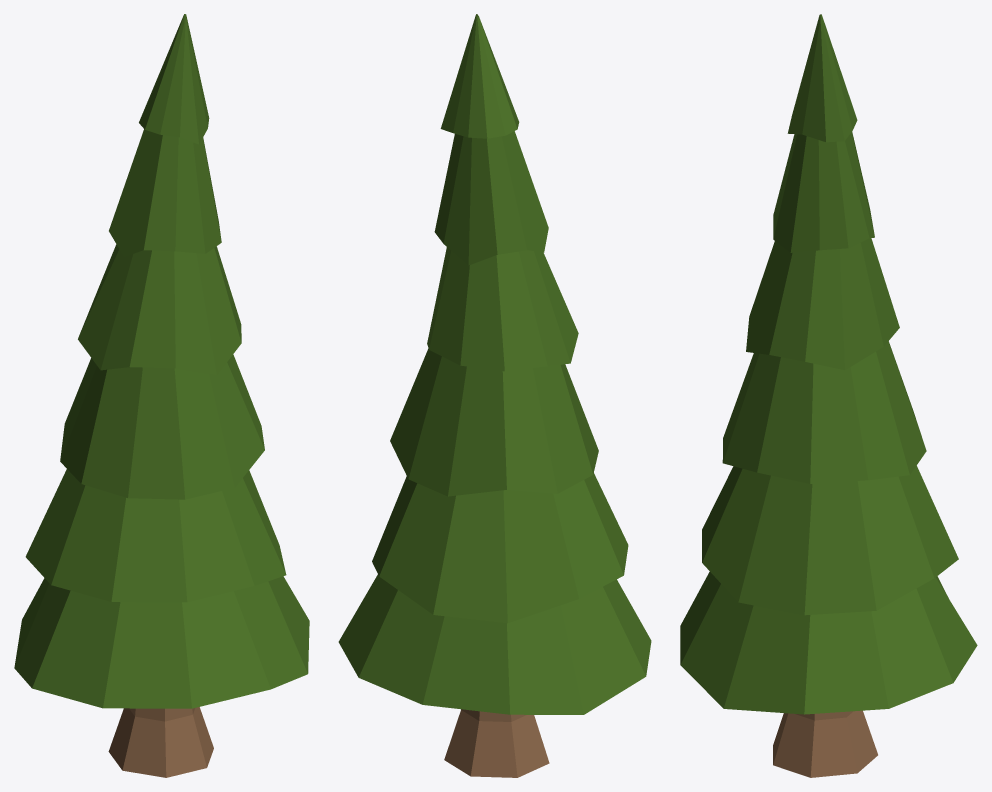
Rendered from tree3.fbx.
3 renders of one model, left to right at view 1: azimuth 30°, elevation 25°; view 2: azimuth 150°, elevation 25°; view 3: azimuth 270°, elevation 25°, orthographic. The views are drawn at different scales.
Parts seen in each view (by area): view 1: Cylinder; view 2: Cylinder; view 3: Cylinder.
Boxes of the visible parts, x1=… form: Cylinder: x1=14, y1=14, x2=309, y2=777; Cylinder: x1=338, y1=14, x2=651, y2=777; Cylinder: x1=680, y1=14, x2=977, y2=777.
Bounding box in the file's own units: 216 × 547 × 196.
